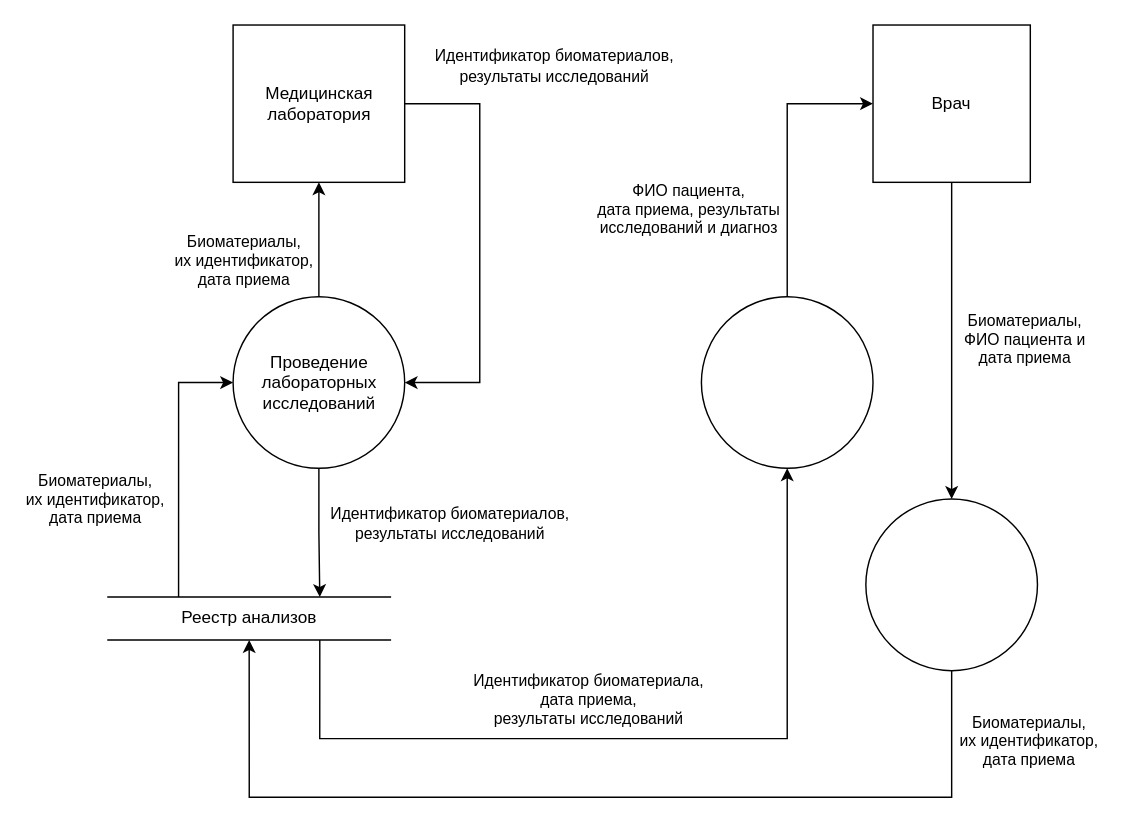
This 1121x834 diagram has some shape labels left out. Each missing label, with the box of its shape:
Подготовка биоматериалов для проведения лабораторных исследований: (864, 498, 1037, 671)
Проведение анализа результатов исследований: (700, 295, 873, 468)
